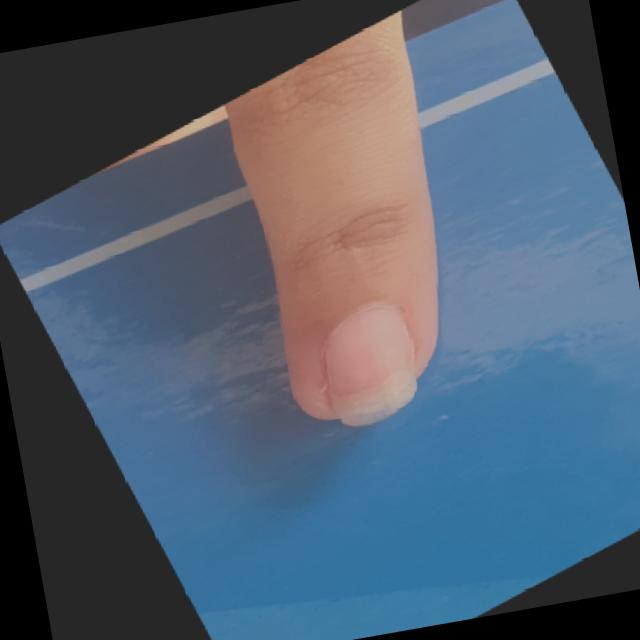Nail: (323, 306, 417, 424)
